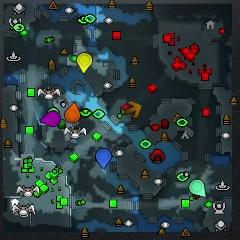p1: (96, 148, 111, 168)
p2: (190, 180, 205, 197)
p3: (40, 110, 60, 127)
p4: (77, 52, 93, 73)
p5: (65, 102, 80, 123)
x5: (125, 101, 141, 118)
